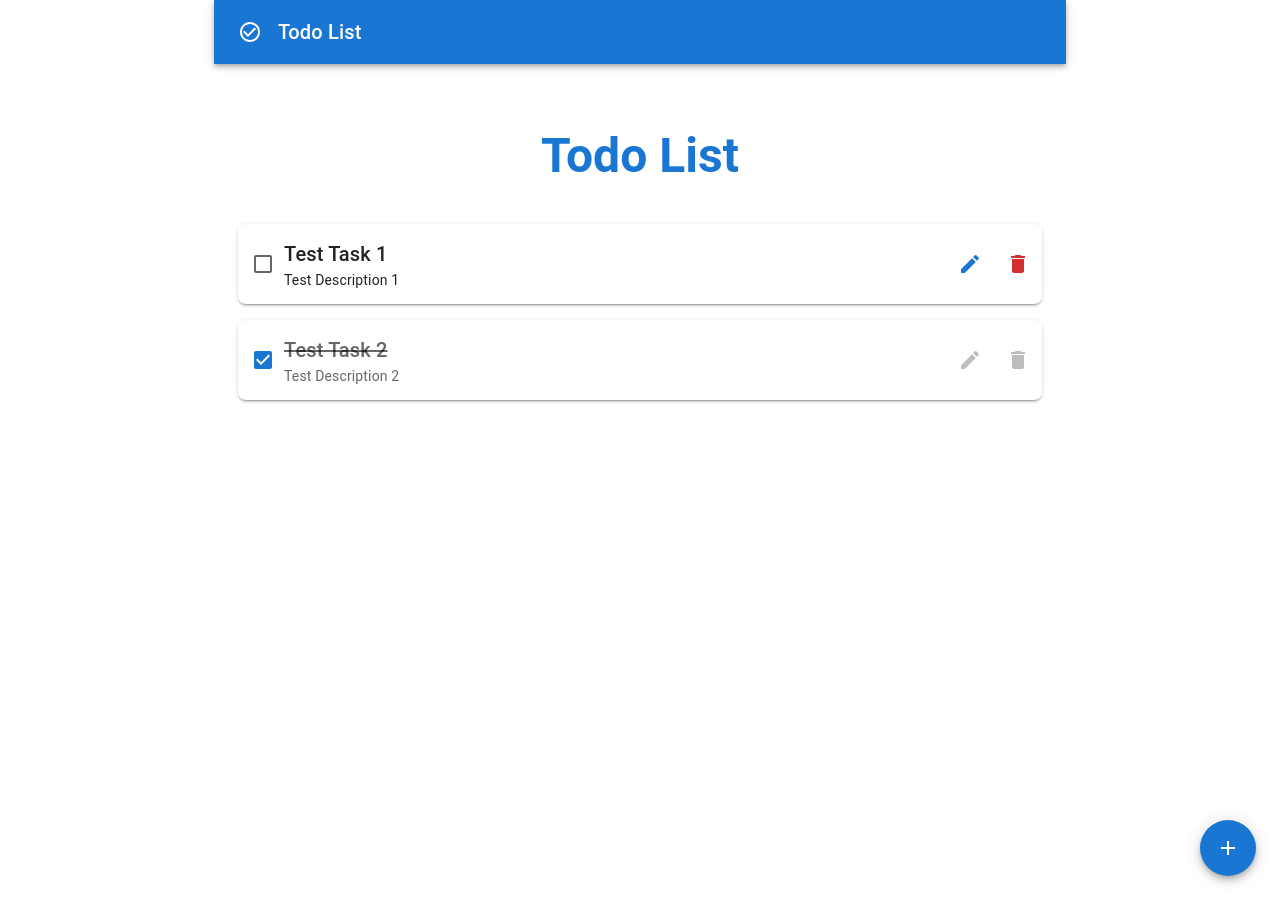
it: TodoApp Integration Tests › should create a new task successfully
Expected: the heading "Test Task 1" is shown, x1=284 y1=242 x2=388 y2=266
# Click add button to open dialog
Click the button named "add" at (1228, 848), box x1=1200 y1=820 x2=1256 y2=876
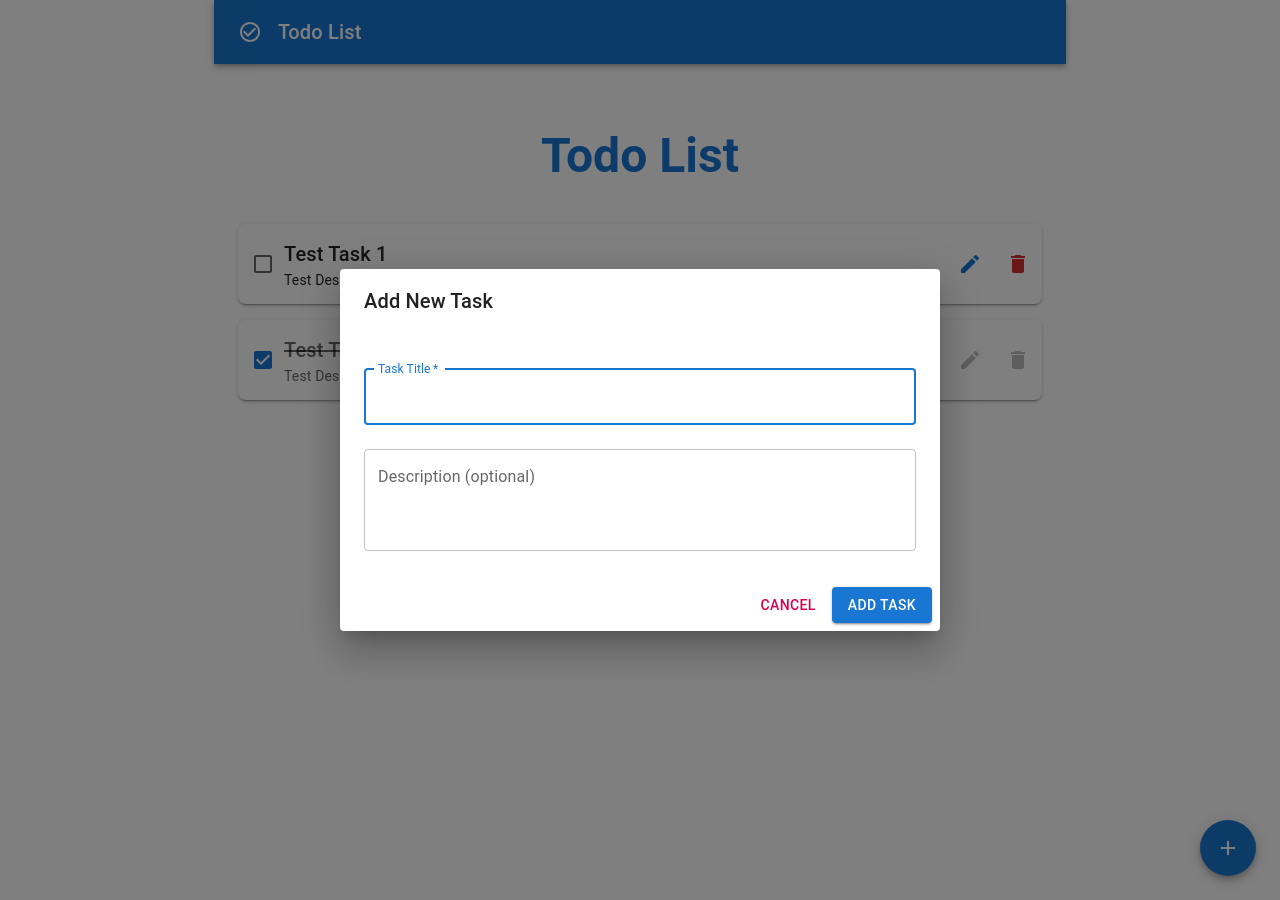
# Fill in the form
Type "New Task" into the field labelled "Task Title *" at (640, 397), box x1=364 y1=369 x2=916 y2=425
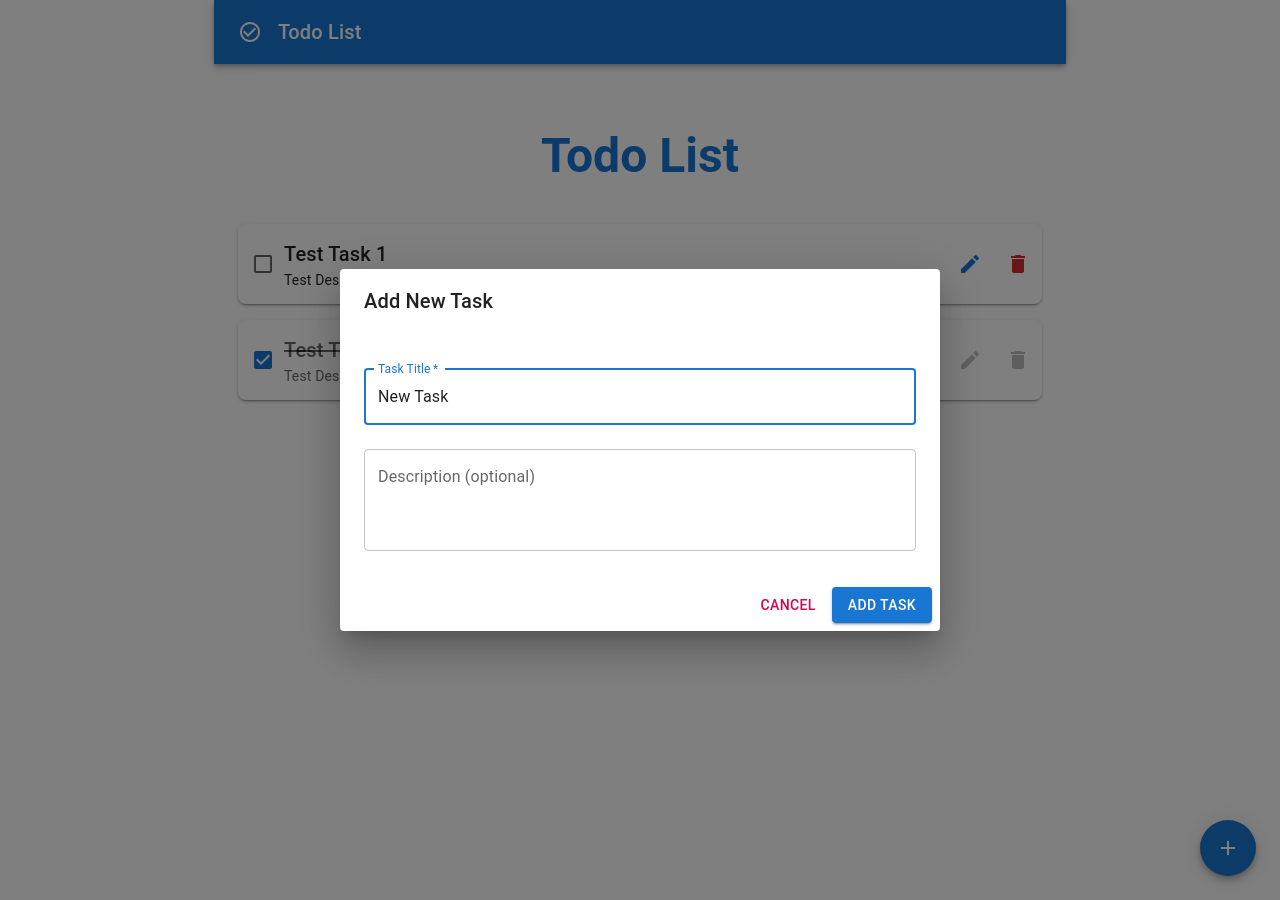
Type "New Description" into the text box labelled "Description (optional)" at (640, 500), box x1=378 y1=465 x2=902 y2=534
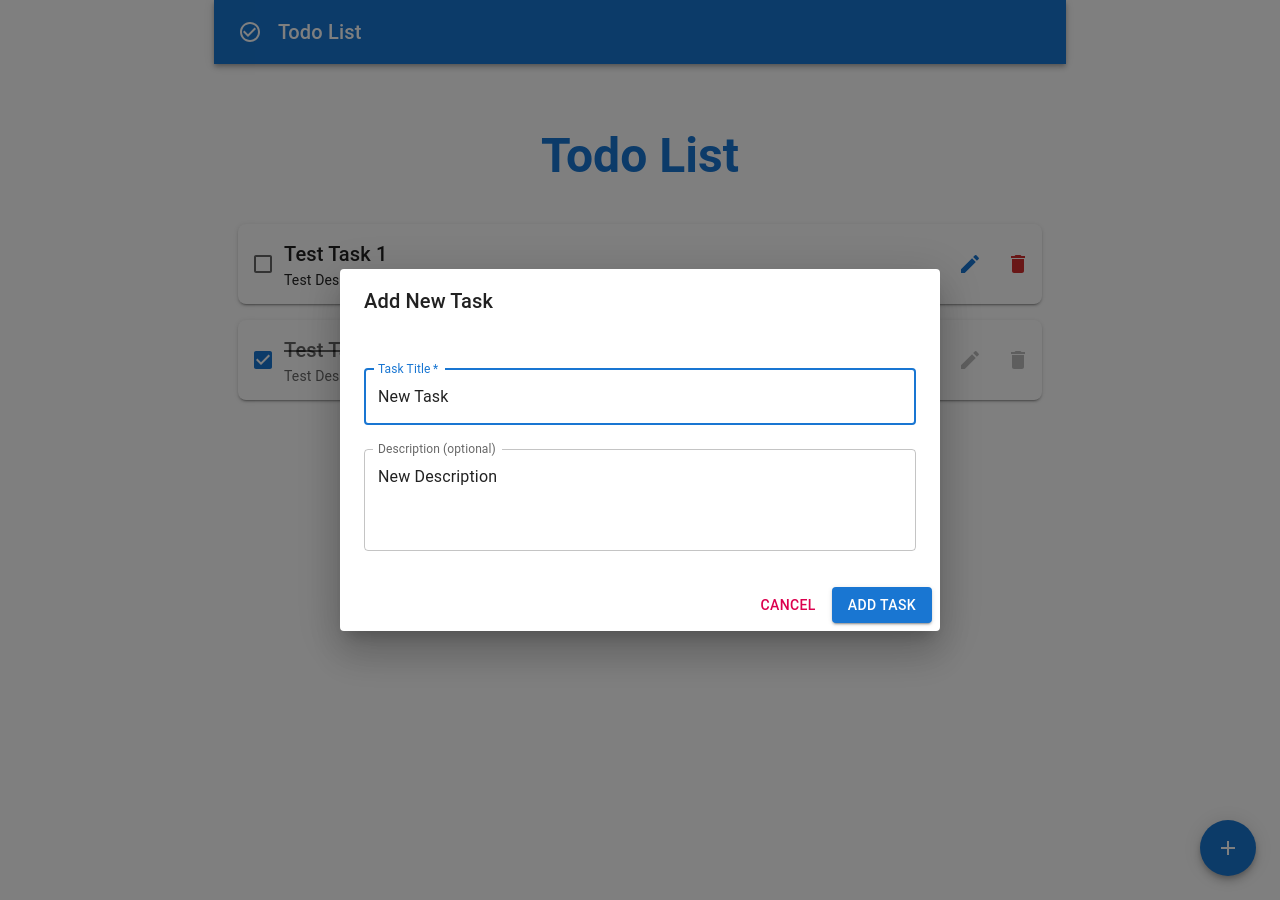
# Submit the form
Click the button "Add Task" at (882, 605), box x1=832 y1=587 x2=932 y2=623
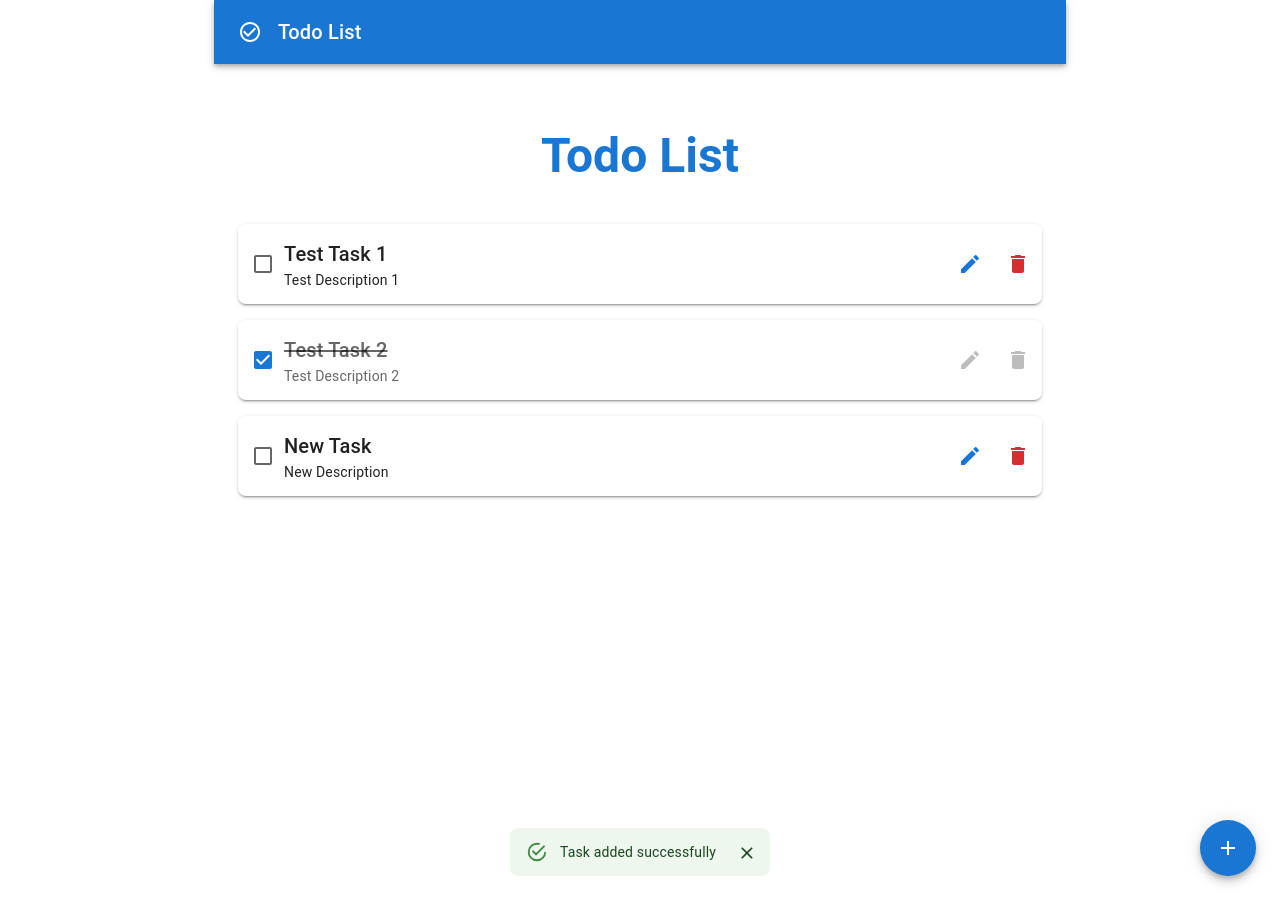
Expected: the heading "New Task" is shown, x1=284 y1=434 x2=372 y2=458
Expected: the text "New Description" is shown, x1=284 y1=464 x2=388 y2=480
